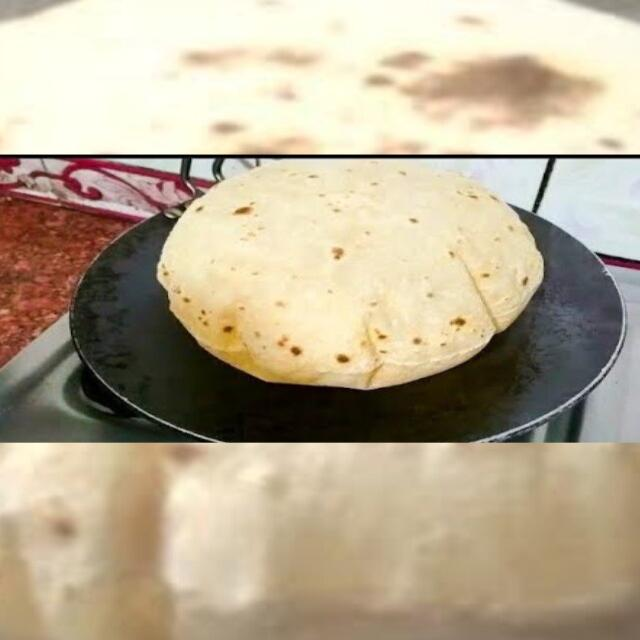ROTI: (157, 161, 543, 389)
